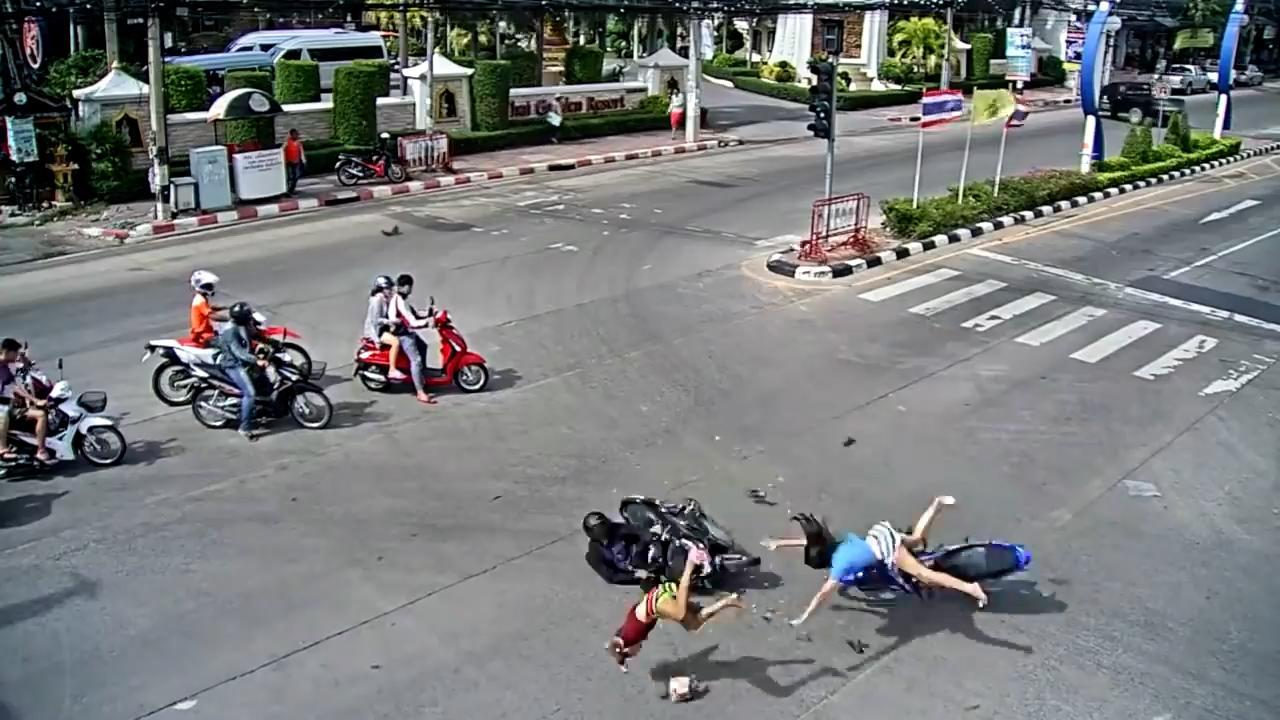accident: (763, 487, 994, 627), (606, 536, 747, 665)
